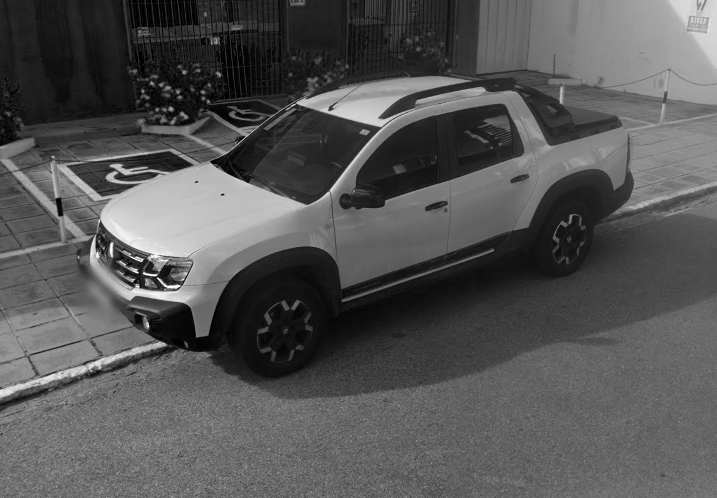car: (77, 59, 636, 380)
